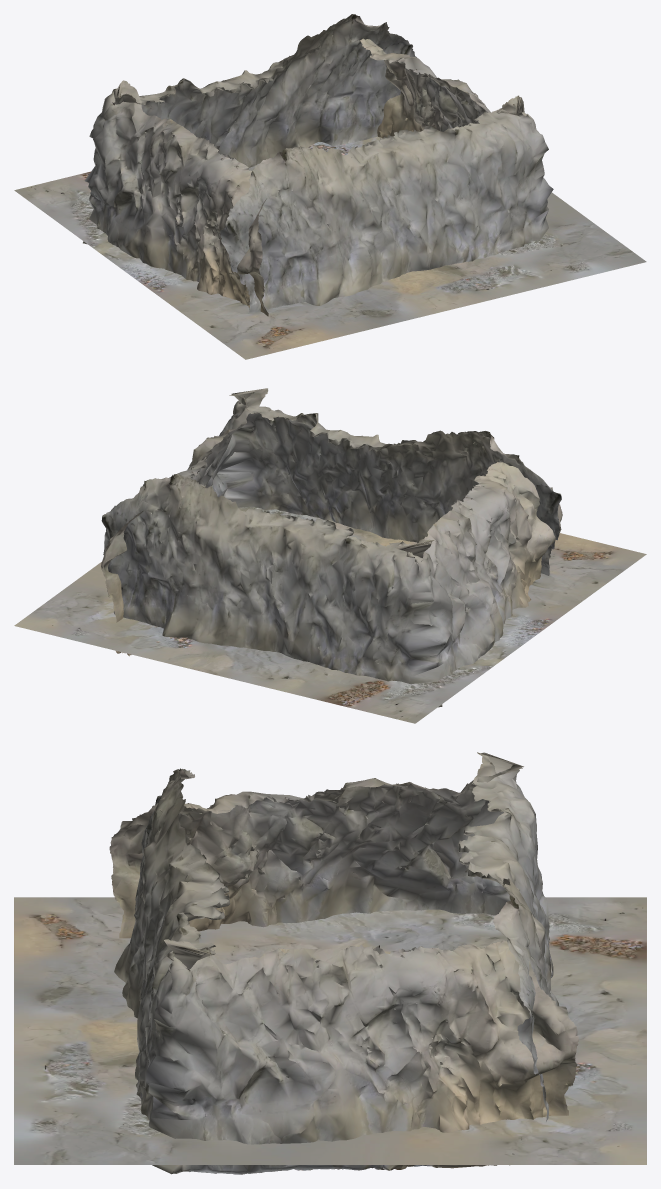
File: cave-lg.glb
The picture shows the model from 3 angles, top to bottom: view 1: azimuth 30°, elevation 25°; view 2: azimuth 150°, elevation 25°; view 3: azimuth 270°, elevation 25°; orthographic projection. The views are drawn at different scales.
Parts seen in each view (by area): view 1: Cave, Plane; view 2: Cave, Plane; view 3: Cave, Plane.
Boxes of the visible parts, box(x1,y1,x2,y2) form: Cave: box(83, 14, 553, 316); Plane: box(14, 136, 646, 359); Cave: box(101, 388, 562, 707); Plane: box(14, 506, 646, 723); Cave: box(109, 752, 578, 1174); Plane: box(14, 897, 646, 1164).
Bounding box in the file's own units: 33.29 × 14.14 × 33.29.
3 materials, 3 textured.
